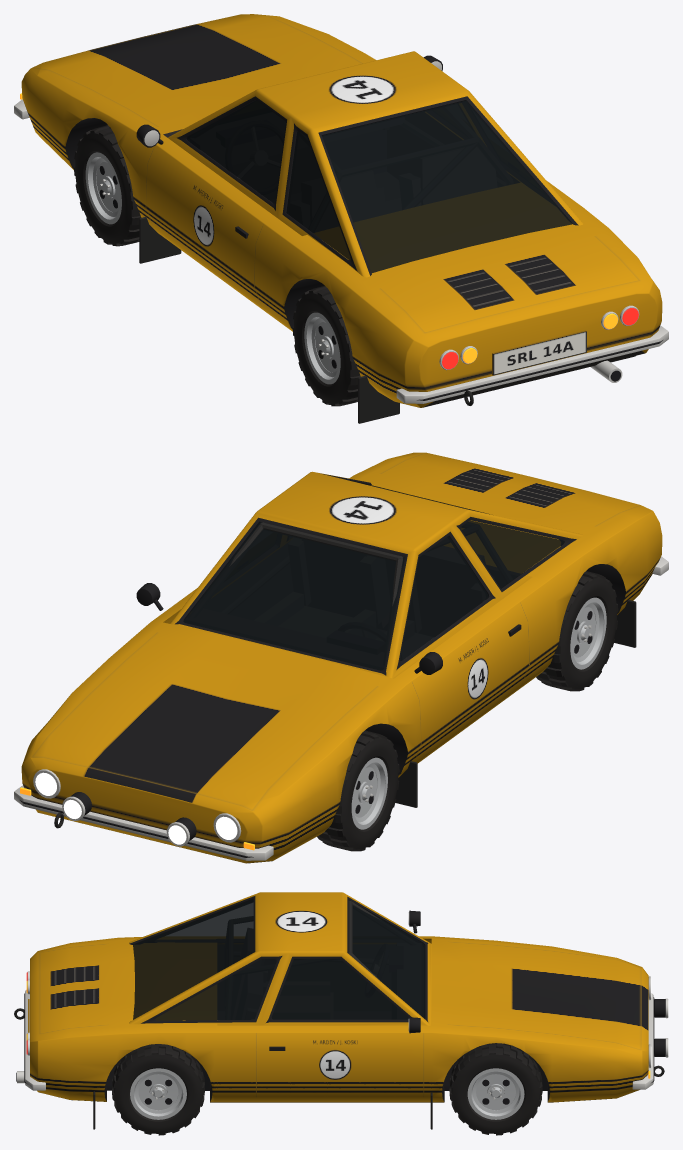
The model's file is CAR-002_Export.fbx.
3 views of the same model, one above another, from view 1: azimuth 30°, elevation 25°; view 2: azimuth 150°, elevation 25°; view 3: azimuth 270°, elevation 25° (orthographic). The views are drawn at different scales.
Visible parts, largest first — view 1: CAR-002_Body, CAR-002_Glass, CAR-002_Wheel_FL_Tire, CAR-002_Wheel_RL_Tire, CAR-002_Bumper_Rear, CAR-002_Trim, CAR-002_MudFlaps, CAR-002_Wheel_FL_Rim, CAR-002_Wheel_RL_Rim, CAR-002_Lights; view 2: CAR-002_Body, CAR-002_Glass, CAR-002_Wheel_FL_Tire, CAR-002_Wheel_RL_Tire, CAR-002_Lights, CAR-002_Bumper_Front, CAR-002_Wheel_FL_Rim, CAR-002_Wheel_RL_Rim, CAR-002_MudFlaps, CAR-002_Interior, CAR-002_Mirrors; view 3: CAR-002_Body, CAR-002_Glass, CAR-002_Wheel_FR_Tire, CAR-002_Wheel_RR_Tire, CAR-002_Wheel_RR_Rim, CAR-002_Wheel_FR_Rim, CAR-002_Lights, CAR-002_Bumper_Front, CAR-002_Bumper_Rear, CAR-002_Interior, CAR-002_Mirrors, CAR-002_Trim.
Part boxes in pixels (x1,y1,x2,y2): CAR-002_Body: (21,14,662,407); CAR-002_Glass: (186,100,572,272); CAR-002_Wheel_FL_Tire: (74,125,141,246); CAR-002_Wheel_RL_Tire: (292,286,360,406); CAR-002_Bumper_Rear: (396,325,668,403); CAR-002_Trim: (235,226,622,405); CAR-002_MudFlaps: (139,217,635,423); CAR-002_Wheel_FL_Rim: (85,152,121,224); CAR-002_Wheel_RL_Rim: (304,312,340,384); CAR-002_Lights: (20,93,639,370); CAR-002_Body: (21,452,662,863); CAR-002_Glass: (183,483,564,670); CAR-002_Wheel_FL_Tire: (317,730,399,851); CAR-002_Wheel_RL_Tire: (536,571,618,691); CAR-002_Lights: (20,769,254,850); CAR-002_Bumper_Front: (14,785,273,860); CAR-002_Wheel_FL_Rim: (351,757,387,829); CAR-002_Wheel_RL_Rim: (570,597,606,669); CAR-002_MudFlaps: (395,599,636,807); CAR-002_Interior: (229,522,484,660); CAR-002_Mirrors: (136,583,442,674); CAR-002_Body: (30,892,648,1102); CAR-002_Glass: (133,899,424,1020); CAR-002_Wheel_FR_Tire: (449,1043,542,1135); CAR-002_Wheel_RR_Tire: (112,1044,204,1135); CAR-002_Wheel_RR_Rim: (130,1068,186,1119); CAR-002_Wheel_FR_Rim: (467,1068,524,1119); CAR-002_Lights: (26,971,668,1078); CAR-002_Bumper_Front: (632,993,654,1089); CAR-002_Bumper_Rear: (24,990,45,1090); CAR-002_Interior: (217,900,381,1020); CAR-002_Mirrors: (408,910,420,1033); CAR-002_Trim: (14,999,664,1083).
Size of the model in its own units: 1.67 by 1.13 by 4.08.
Materials: 17 (2 with a texture image).
